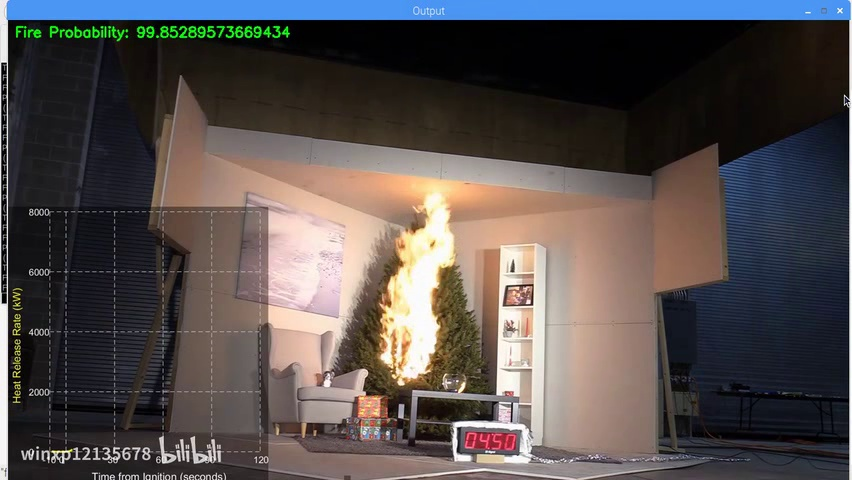fire: (379, 184, 461, 394)
